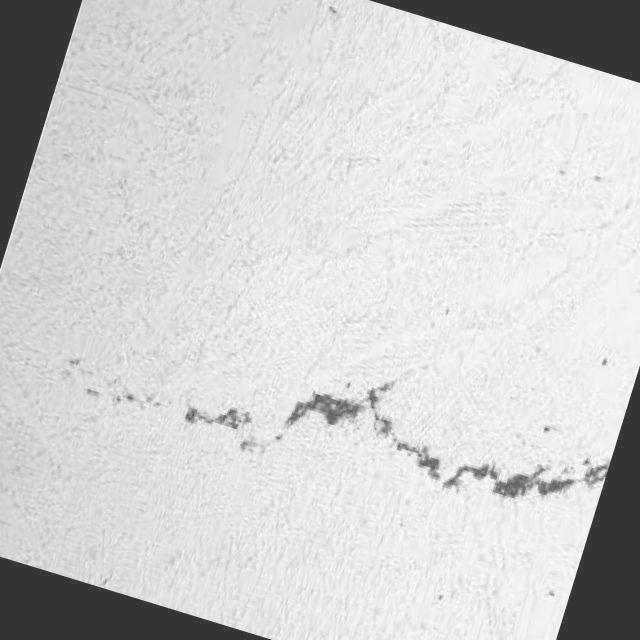defect: (175, 379, 603, 507)
